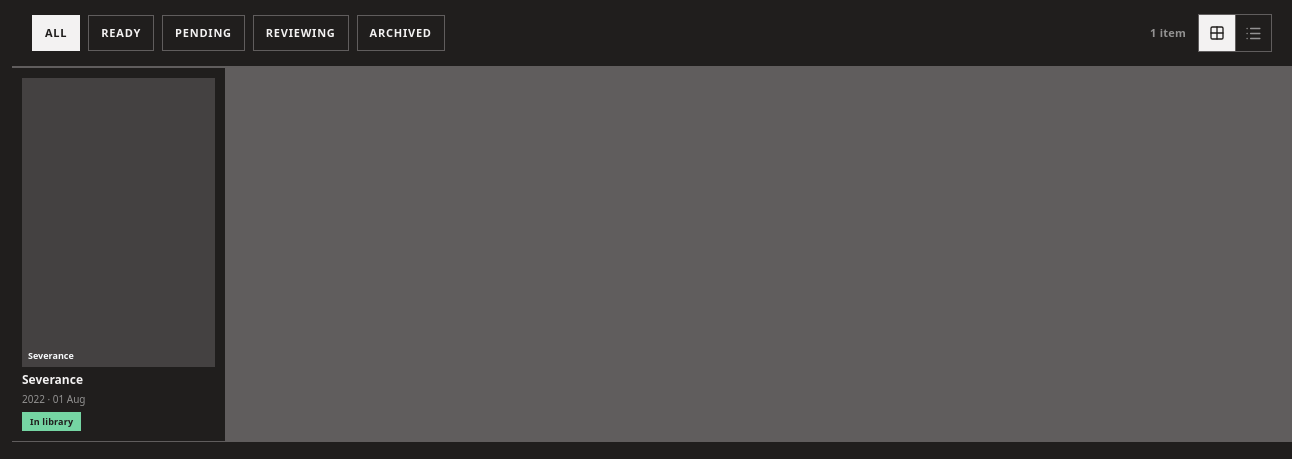
it: list detail › disables the bulk send when no arr is connected
Note: Rows carry checkboxes only in the table view.
Click the button named "Table view" at (1253, 33), box [1235,15,1271,51]
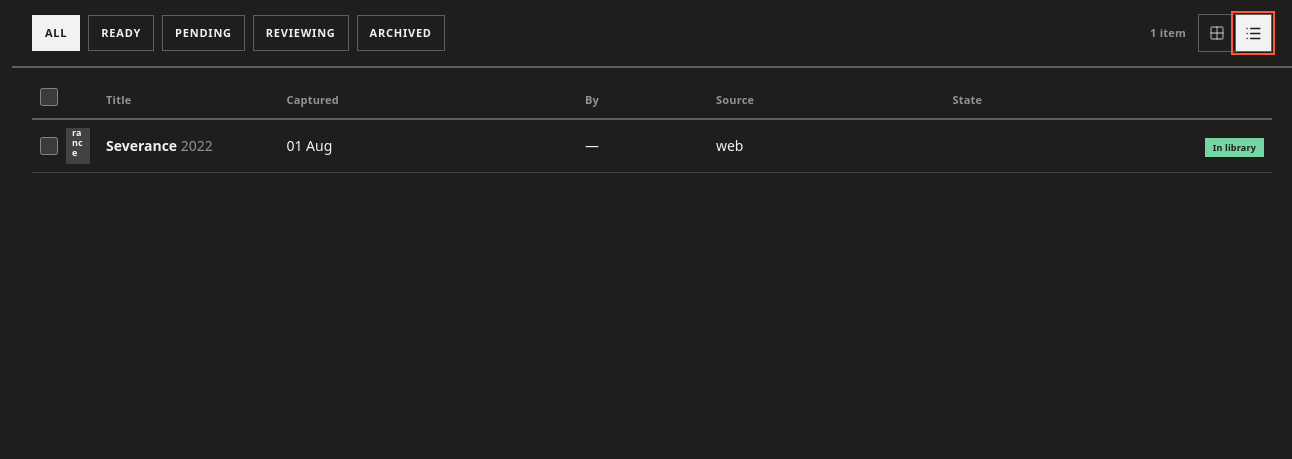
Click the checkbox named "Select Severance" at (49, 146), box [40,137,58,155]
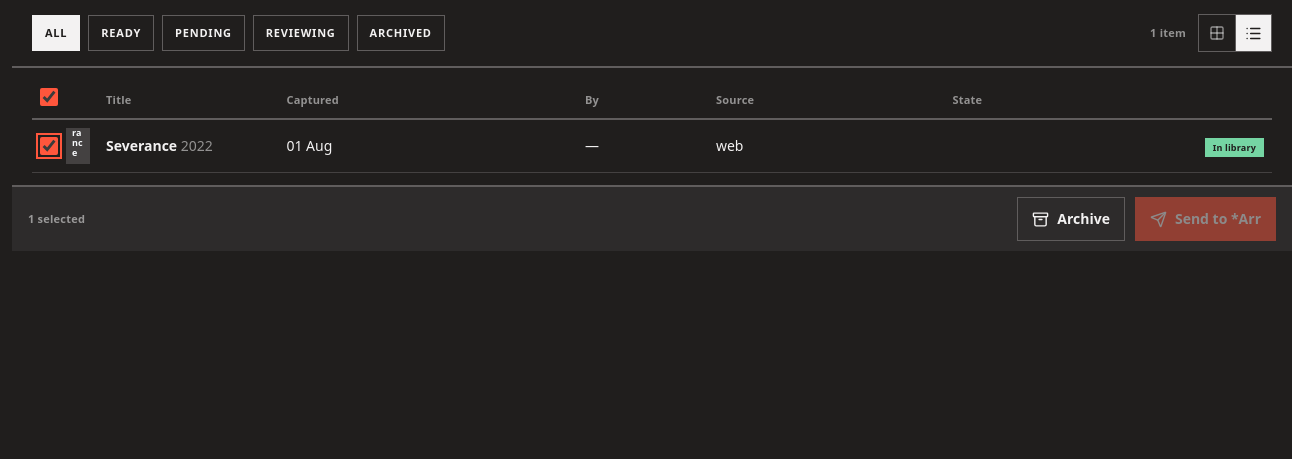
Expected: the button "Send to *Arr" is disabled, [1135,197,1276,241]
